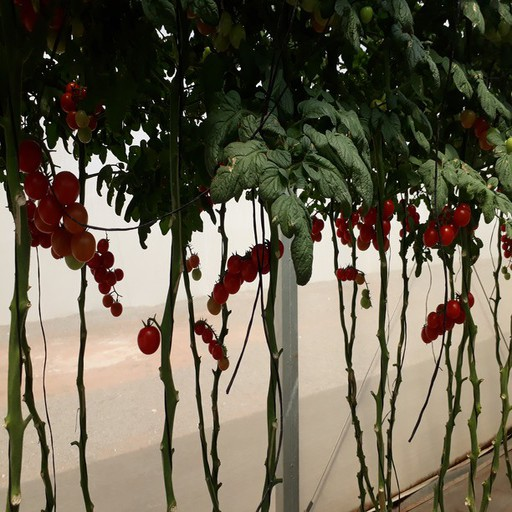green tomato bunch: (197, 3, 249, 54), (298, 1, 376, 35)
mixed tomato bunch: (18, 1, 86, 52), (460, 108, 512, 154), (60, 82, 100, 141)
red tomato bunch: (16, 135, 97, 263), (207, 238, 284, 318), (84, 238, 127, 315), (422, 291, 474, 348), (422, 201, 471, 246), (194, 319, 232, 375), (357, 196, 393, 252), (330, 202, 368, 248), (331, 266, 365, 285), (302, 216, 324, 242), (498, 226, 512, 259)
